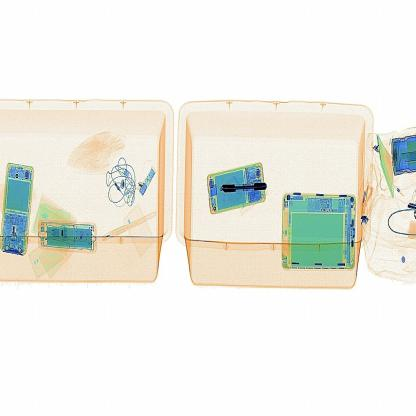knife: (212, 166, 271, 202)
